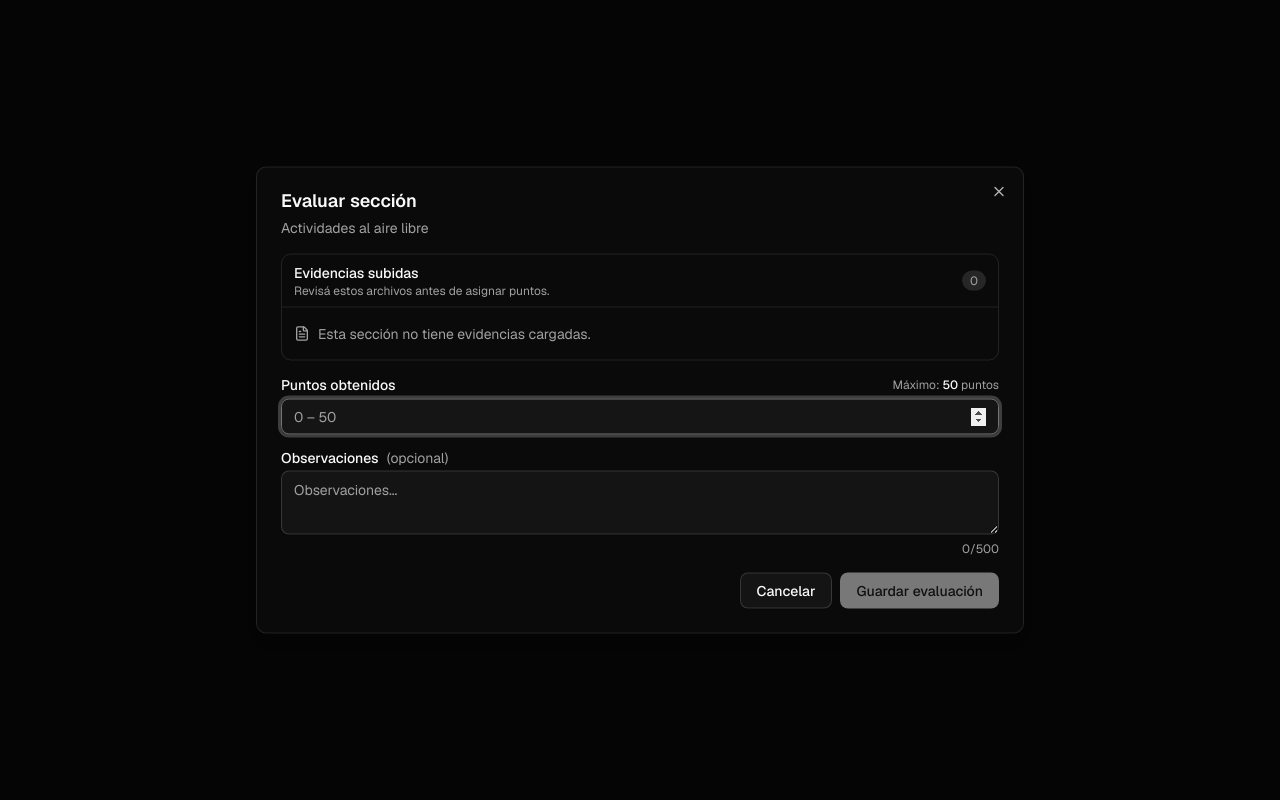
EvaluateSectionDialog › shows error message when entered points exceed maxPoints
The width and height of the screenshot is (1280, 800).
Type "99" into the number field with id "earned-points". click: point(640, 416)
box: [281,398,999,434]
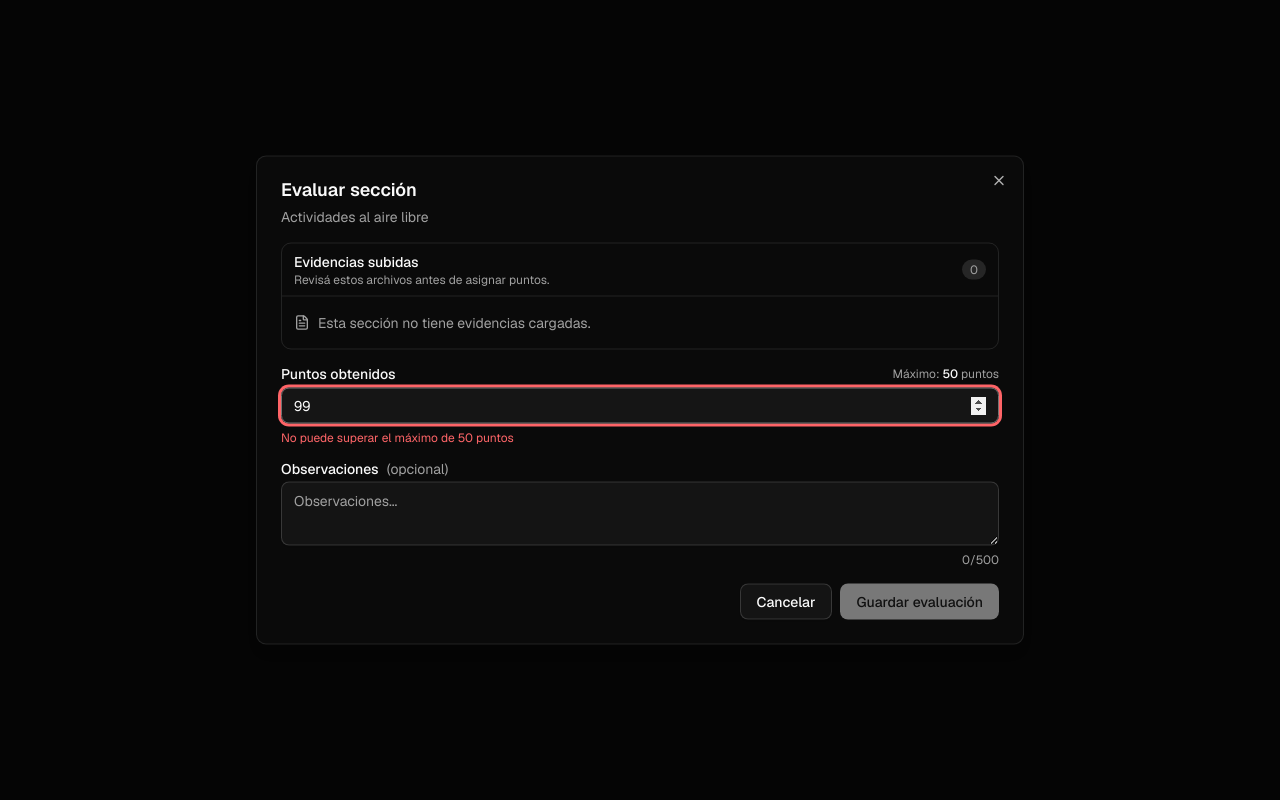
Check: the button "Guardar evaluación" is disabled, box [840,584,999,620]
Check: the text "No puede superar el máximo de 50 puntos" is shown, box [281,430,514,446]
